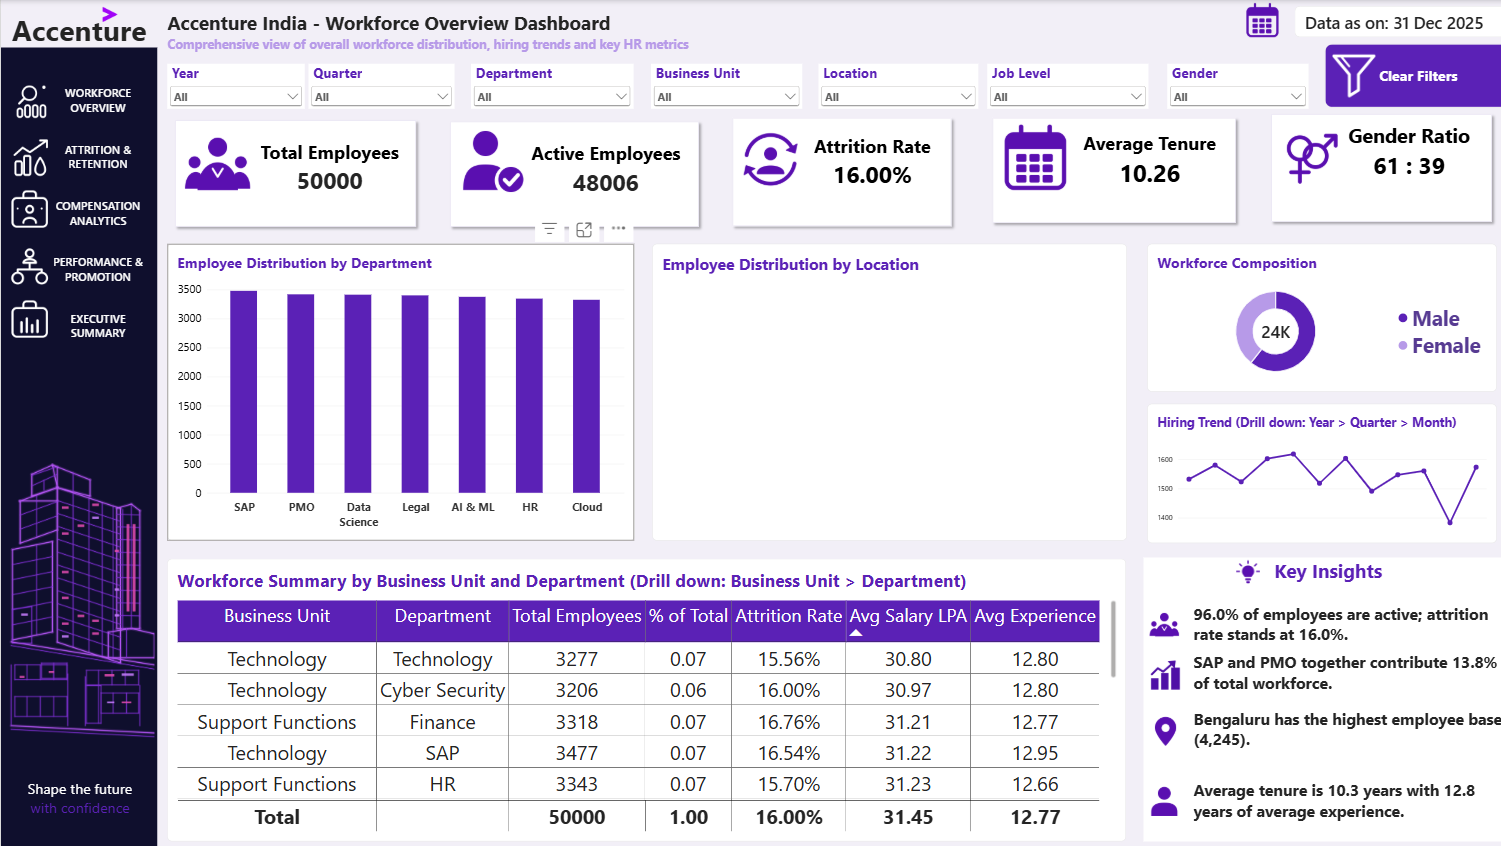

Layout of this report page (visuals, bound fields, positions):
{"tool":"powerbi","page":{"name":"WORKFORCE OVERVIEW","canvas":[2560,1440],"ordinal":0},"visuals":[{"type":"cardVisual","fields":{"Data":["MeasureTable.Data As On"]},"box":[2182.9,10.4,367.5,52.1],"z":0,"group":"g9"},{"type":"textbox","box":[280.5,16.9,959.6,90.7],"z":0},{"type":"shape","box":[0,80.1,263.6,1360.3],"z":0,"group":"g6"},{"type":"shape","box":[2133.3,182.6,390.1,199.6],"z":0,"group":"g2"},{"type":"shape","box":[1664,188.5,428,195.3],"z":0,"group":"g3"},{"type":"shape","box":[1225.3,190,387.1,200.7],"z":0,"group":"g4"},{"type":"shape","box":[285.2,193.9,424.5,197.2],"z":0,"group":"g1"},{"type":"shape","box":[748.7,194.7,437.7,195.3],"z":0,"group":"g5"},{"type":"textbox","box":[1927.2,939.6,623.2,479.4],"z":0,"group":"g8"},{"type":"image","box":[2073.4,0,110.4,67.1],"z":1000,"group":"g9"},{"type":"textbox","box":[0,16.2,264.3,64.7],"z":1000,"group":"g6"},{"type":"slicer","fields":{"Values":["DimDate.Date.Variation.Date Hierarchy.Year"]},"box":[280.5,107.6,232,75.9],"z":1000},{"type":"cardVisual","fields":{"Data":["MeasureTable.Attrition Rate"]},"box":[1291.7,149.8,359.6,246.9],"z":1000,"group":"g4"},{"type":"cardVisual","fields":{"Data":["MeasureTable.Gender Ratio"]},"box":[2190,155,369.1,199],"z":1000,"group":"g2"},{"type":"cardVisual","fields":{"Data":["MeasureTable.Average Tenure"]},"box":[1743.2,159.6,388.3,220.5],"z":1000,"group":"g3"},{"type":"cardVisual","fields":{"Data":["MeasureTable.Total Employees"]},"box":[361.3,159.7,388.3,246.9],"z":1000,"group":"g1"},{"type":"cardVisual","fields":{"Data":["MeasureTable.Active Employees"]},"box":[811.8,174.7,417.1,220.5],"z":1000,"group":"g5"},{"type":"textbox","box":[2011.2,1015.7,539.6,72.1],"z":1000,"group":"g8"},{"type":"image","box":[163.6,0,37.8,48.5],"z":2000,"group":"g6"},{"type":"slicer","fields":{"Values":["DimEmployee.Gender"]},"box":[1967.7,107.6,238.3,75.9],"z":2000},{"type":"image","box":[2148.5,194.7,117.5,132.3],"z":2000,"group":"g2"},{"type":"image","box":[1680.7,200.3,128.9,129.4],"z":2000,"group":"g3"},{"type":"image","box":[1240.4,202.1,116.6,133],"z":2000,"group":"g4"},{"type":"image","box":[301.8,205.8,127.8,130.7],"z":2000,"group":"g1"},{"type":"image","box":[765.8,206.6,131.8,129.4],"z":2000,"group":"g5"},{"type":"textbox","box":[2011.2,1097.4,539.6,86.6],"z":2000,"group":"g8"},{"type":"slicer","fields":{"Values":["DimJobLevel.JobLevel"]},"box":[1664,107.6,272.1,75.9],"z":3000},{"type":"textbox","box":[2011.2,1193.6,539.6,109.6],"z":3000,"group":"g8"},{"type":"slicer","fields":{"Values":["DimLocation.City"]},"box":[1379.3,107.6,269.9,75.9],"z":4000},{"type":"image","box":[2.1,761.3,261.5,508.3],"z":4000,"group":"g6"},{"type":"textbox","box":[2011.2,1312.9,539.6,75],"z":4000,"group":"g8"},{"type":"slicer","fields":{"Values":["DimDepartment.Business Unit"]},"box":[1096.7,107.6,255.2,75.9],"z":5000},{"type":"image","box":[2.1,132.9,99.1,73.8],"z":5000,"group":"g6"},{"type":"image","box":[1933.3,1012.8,57.7,75],"z":5000,"group":"g8"},{"type":"slicer","fields":{"Values":["DimDepartment.DepartmentName"]},"box":[793,107.6,274.2,75.9],"z":6000},{"type":"image","box":[4.2,227.8,97,78],"z":6000,"group":"g6"},{"type":"image","box":[1936.2,1102.2,57.7,75],"z":6000,"group":"g8"},{"type":"slicer","fields":{"Values":["DimDate.Date.Variation.Date Hierarchy.Quarter"]},"box":[518.8,107.6,246.7,75.9],"z":7000},{"type":"image","box":[0,310,97,82.2],"z":7000,"group":"g6"},{"type":"image","box":[1936.2,1194.6,57.7,75],"z":7000,"group":"g8"},{"type":"group","id":"g1","title":"Group 1","box":[285.2,159.7,464.4,246.9],"z":8000},{"type":"image","box":[0,411.2,97,82.2],"z":8000,"group":"g6"},{"type":"image","box":[2074.7,940.7,57.7,49.1],"z":8000,"group":"g8"},{"type":"group","id":"g2","title":"Group 1","box":[2133.3,155,425.9,227.3],"z":9000},{"type":"image","box":[0,495.6,97,82.2],"z":9000,"group":"g6"},{"type":"image","box":[1933.3,1312.9,57.7,75],"z":9000,"group":"g8"},{"type":"pageNavigator","box":[62.3,127,201.3,469.8],"z":10000,"group":"g6"},{"type":"group","id":"g3","title":"Group 1","box":[1664,159.6,467.5,224.1],"z":10000},{"type":"group","id":"g4","title":"Group 1","box":[1225.3,149.8,425.9,246.9],"z":11000},{"type":"textbox","box":[2.1,1313.9,262.5,75.5],"z":11000,"group":"g6"},{"type":"group","id":"g5","title":"Group 1","box":[748.7,174.7,480.2,220.5],"z":12000},{"type":"clusteredColumnChart","title":"Employee Distribution by Department","fields":{"Category":["DimDepartment.DepartmentName"],"Y":["MeasureTable.Total Employees"]},"box":[280.4,412.3,788.6,501],"z":13000},{"type":"map","title":"Employee Distribution by Location","fields":{"Category":["DimLocation.City"],"Size":["MeasureTable.Total Employees"]},"box":[1097.8,412.3,800.6,501],"z":14000},{"type":"donutChart","title":"Workforce Composition","fields":{"Category":["DimEmployee.Gender"],"Y":["MeasureTable.Total Employees"]},"box":[1934.4,412.3,589.7,249.3],"z":15000},{"type":"lineChart","title":"Hiring Trend (Drill down: Year > Quarter > Month)","fields":{"Category":["DimDate.FY Quarter","DimDate.Month Name"],"Y":["MeasureTable.New Hires"]},"box":[1934.4,680.7,589.7,234.9],"z":16000},{"type":"tableEx","title":"Workforce Summary by Business Unit and Department (Drill down: Business Unit > Department)","fields":{"Values":["DimDepartment.Business Unit","DimDepartment.DepartmentName","MeasureTable.Total Employees","MeasureTable.% of Total","MeasureTable.Attrition Rate","MeasureTable.Avg Salary LPA","MeasureTable.Avg Experience"]},"box":[280.4,942,1618,477],"z":17000},{"type":"group","id":"g6","title":"Group 2","box":[0,0,264.6,1440.4],"z":18000},{"type":"group","id":"g7","title":"Group 3","box":[2234,62.3,316.4,122.2],"z":19000},{"type":"group","id":"g8","title":"Group 4","box":[1927.2,939.6,623.6,479.4],"z":20000},{"type":"group","id":"g9","title":"Group 3","box":[2073.4,0,477,67.1],"z":20001},{"type":"actionButton","box":[2234,71.9,316.4,107.9],"z":28000,"group":"g7"},{"type":"image","box":[2234,62.3,98.3,122.2],"z":29000,"group":"g7"}]}

Visuals, with their boxes on the page's 2560x1440 design canvas (x1, y1, x2, y2). These are canvas units, not pixel positions in the 1501x846 screenshot, which may show the page scaled, cropped or inside an application window:
cardVisual - MeasureTable.Data As On: [2183, 10, 2550, 62]
textbox: [280, 17, 1240, 108]
shape: [0, 80, 264, 1440]
shape: [2133, 183, 2523, 382]
shape: [1664, 188, 2092, 384]
shape: [1225, 190, 1612, 391]
shape: [285, 194, 710, 391]
shape: [749, 195, 1186, 390]
textbox: [1927, 940, 2550, 1419]
image: [2073, 0, 2184, 67]
textbox: [0, 16, 264, 81]
slicer - DimDate.Date.Variation.Date Hierarchy.Year: [280, 108, 512, 184]
cardVisual - MeasureTable.Attrition Rate: [1292, 150, 1651, 397]
cardVisual - MeasureTable.Gender Ratio: [2190, 155, 2559, 354]
cardVisual - MeasureTable.Average Tenure: [1743, 160, 2132, 380]
cardVisual - MeasureTable.Total Employees: [361, 160, 750, 407]
cardVisual - MeasureTable.Active Employees: [812, 175, 1229, 395]
textbox: [2011, 1016, 2551, 1088]
image: [164, 0, 201, 48]
slicer - DimEmployee.Gender: [1968, 108, 2206, 184]
image: [2148, 195, 2266, 327]
image: [1681, 200, 1810, 330]
image: [1240, 202, 1357, 335]
image: [302, 206, 430, 336]
image: [766, 207, 898, 336]
textbox: [2011, 1097, 2551, 1184]
slicer - DimJobLevel.JobLevel: [1664, 108, 1936, 184]
textbox: [2011, 1194, 2551, 1303]
slicer - DimLocation.City: [1379, 108, 1649, 184]
image: [2, 761, 264, 1270]
textbox: [2011, 1313, 2551, 1388]
slicer - DimDepartment.Business Unit: [1097, 108, 1352, 184]
image: [2, 133, 101, 207]
image: [1933, 1013, 1991, 1088]
slicer - DimDepartment.DepartmentName: [793, 108, 1067, 184]
image: [4, 228, 101, 306]
image: [1936, 1102, 1994, 1177]
slicer - DimDate.Date.Variation.Date Hierarchy.Quarter: [519, 108, 766, 184]
image: [0, 310, 97, 392]
image: [1936, 1195, 1994, 1270]
"Group 1" group: [285, 160, 750, 407]
image: [0, 411, 97, 493]
image: [2075, 941, 2132, 990]
"Group 1" group: [2133, 155, 2559, 382]
image: [0, 496, 97, 578]
image: [1933, 1313, 1991, 1388]
pageNavigator: [62, 127, 264, 597]
"Group 1" group: [1664, 160, 2132, 384]
"Group 1" group: [1225, 150, 1651, 397]
textbox: [2, 1314, 265, 1389]
"Group 1" group: [749, 175, 1229, 395]
"Employee Distribution by Department" clusteredColumnChart: [280, 412, 1069, 913]
"Employee Distribution by Location" map: [1098, 412, 1898, 913]
"Workforce Composition" donutChart: [1934, 412, 2524, 662]
"Hiring Trend (Drill down: Year > Quarter > Month)" lineChart: [1934, 681, 2524, 916]
"Workforce Summary by Business Unit and Department (Drill down: Business Unit > Department)" tableEx: [280, 942, 1898, 1419]
"Group 2" group: [0, 0, 265, 1440]
"Group 3" group: [2234, 62, 2550, 184]
"Group 4" group: [1927, 940, 2551, 1419]
"Group 3" group: [2073, 0, 2550, 67]
actionButton: [2234, 72, 2550, 180]
image: [2234, 62, 2332, 184]
